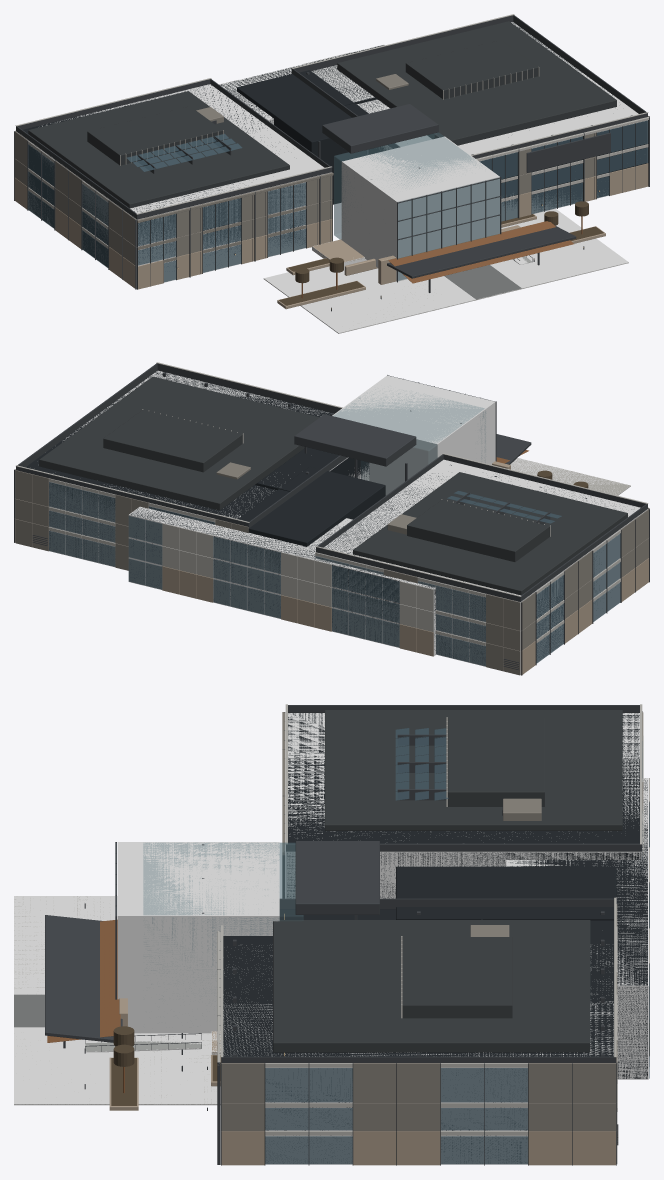
Rendered from MicronHQ.fbx.
3 views of the same model, one above another, from view 1: azimuth 30°, elevation 25°; view 2: azimuth 150°, elevation 25°; view 3: azimuth 270°, elevation 25° (orthographic). The views are drawn at different scales.
Visible parts, largest first — view 1: COL_Micron_Projecting_Lobby, Mass_East_Raised_Roof, Mass_West_Stepped_Roof, COL_Micron_Entry_Plaza, COL_Micron_West_Office_Wing, Mass_Lobby_Rear_Spine, Mass_East_Forward_Office_Wing, Roof_East_Mechanical_Backup, COL_Micron_East_Office_Wing, Roof_West_Mechanical_Backup, Mass_West_Offset_Office_Wing, Mass_Projecting_Glass_Lobby (+26 smaller); view 2: Mass_East_Raised_Roof, COL_Micron_North_Connector_Bar, Mass_West_Stepped_Roof, COL_Micron_West_Office_Wing, COL_Micron_Projecting_Lobby, Mass_Lobby_Rear_Spine, COL_Micron_East_Office_Wing, Mass_Projecting_Glass_Lobby, Mass_East_Forward_Office_Wing, Roof_West_Mechanical_Backup, Roof_East_Mechanical_Backup, Mass_Lobby_Crown (+18 smaller); view 3: Mass_East_Raised_Roof, Mass_West_Stepped_Roof, COL_Micron_Projecting_Lobby, COL_Micron_East_Office_Wing, COL_Micron_Entry_Plaza, Mass_West_Offset_Office_Wing, Mass_East_Forward_Office_Wing, Mass_Lobby_Rear_Spine, COL_Micron_West_Office_Wing, Roof_East_Mechanical_Backup, Roof_West_Mechanical_Backup, Main_Asymmetric_Rising_Canopy (+40 smaller).
Part boxes in pixels (x1,y1,x2,y2): COL_Micron_Projecting_Lobby: (341,136,499,281); Mass_East_Raised_Roof: (337,21,616,145); Mass_West_Stepped_Roof: (28,91,289,208); COL_Micron_Entry_Plaza: (264,208,628,333); COL_Micron_West_Office_Wing: (15,84,331,288); Mass_Lobby_Rear_Spine: (237,70,368,204); Mass_East_Forward_Office_Wing: (312,22,647,208); Roof_East_Mechanical_Backup: (405,40,538,99); COL_Micron_East_Office_Wing: (311,22,647,220); Roof_West_Mechanical_Backup: (87,106,222,165); Mass_West_Offset_Office_Wing: (23,85,305,266); Mass_Projecting_Glass_Lobby: (334,132,476,239); Mass_East_Raised_Roof: (39,376,319,510); COL_Micron_North_Connector_Bar: (128,506,436,655); Mass_West_Stepped_Roof: (353,472,627,595); COL_Micron_West_Office_Wing: (315,459,647,674); COL_Micron_Projecting_Lobby: (332,375,495,495); Mass_Lobby_Rear_Spine: (238,466,385,546); COL_Micron_East_Office_Wing: (49,370,369,567); Mass_Projecting_Glass_Lobby: (334,392,485,494); Mass_East_Forward_Office_Wing: (25,371,369,552); Roof_West_Mechanical_Backup: (407,500,549,561); Roof_East_Mechanical_Backup: (103,410,242,472); Mass_Lobby_Crown: (294,414,416,466); Mass_East_Raised_Roof: (273,920,590,1052); Mass_West_Stepped_Roof: (325,710,622,830); COL_Micron_Projecting_Lobby: (117,842,279,1033); COL_Micron_East_Office_Wing: (223,944,613,1164); COL_Micron_Entry_Plaza: (14,896,220,1105); Mass_West_Offset_Office_Wing: (287,713,641,898); Mass_East_Forward_Office_Wing: (223,909,613,1161); Mass_Lobby_Rear_Spine: (396,866,616,920); COL_Micron_West_Office_Wing: (286,713,641,898); Roof_East_Mechanical_Backup: (402,937,512,1018); Roof_West_Mechanical_Backup: (448,718,544,806); Main_Asymmetric_Rising_Canopy: (45,915,122,1042).
Bounding box in the file's own units: 12890 × 2285 × 9821.
